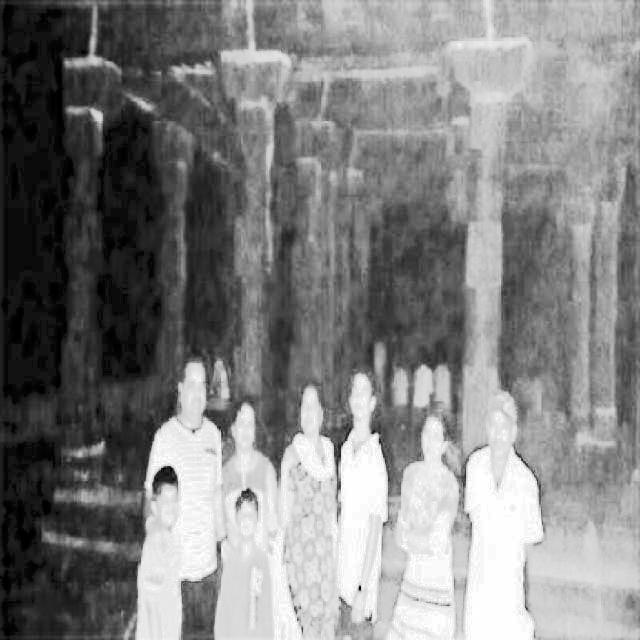Person: (148, 351, 234, 640), (463, 386, 542, 640), (389, 398, 457, 640), (277, 377, 339, 640), (336, 361, 390, 640), (134, 460, 188, 640), (214, 481, 274, 640), (219, 404, 279, 532)
